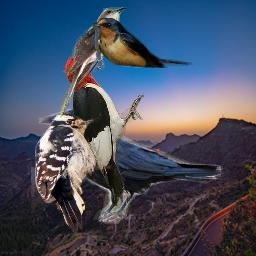Crow: (39, 108, 224, 224)
Cuckoo: (60, 7, 126, 118)
Swallow: (92, 18, 193, 68)
Woodpecker: (63, 47, 144, 206), (31, 111, 113, 234)
